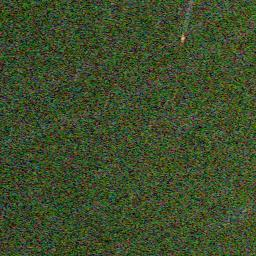Ship: (174, 31, 191, 46)
